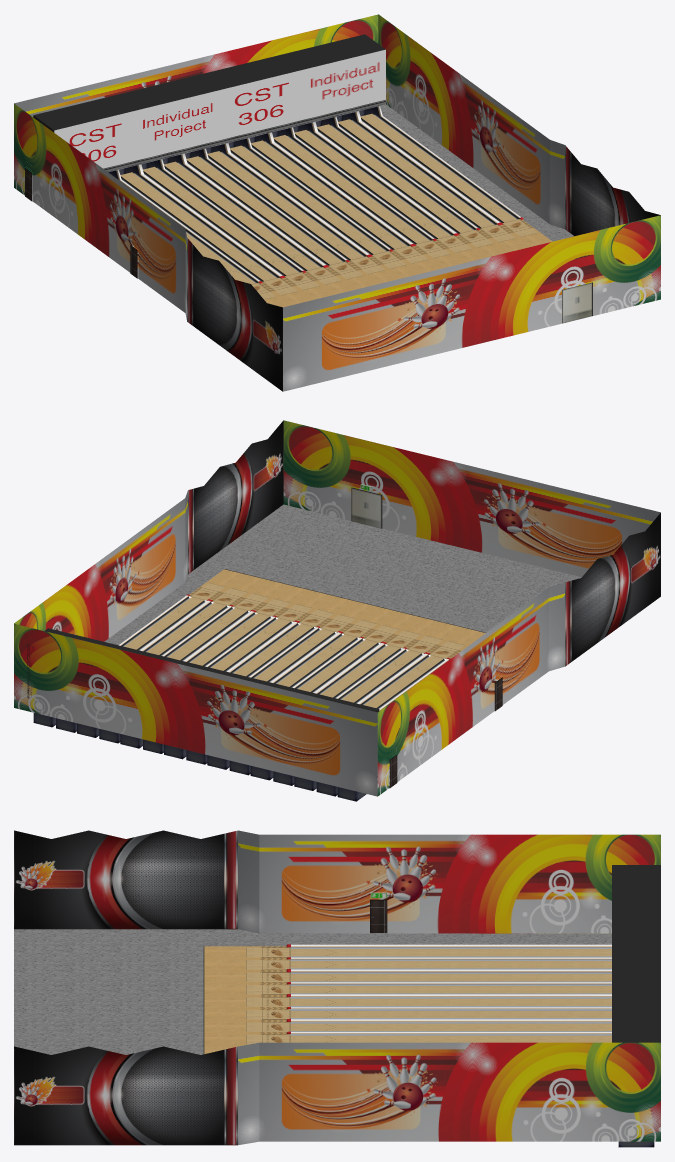
File: Venue01.fbx
The picture shows the model from 3 angles, top to bottom: view 1: azimuth 30°, elevation 25°; view 2: azimuth 150°, elevation 25°; view 3: azimuth 270°, elevation 25°; orthographic projection. The views are drawn at different scales.
Parts seen in each view (by area): view 1: U3DMesh; view 2: U3DMesh; view 3: U3DMesh.
Part boxes in pixels (left/top/right/bottom): U3DMesh: left=14, top=14, right=660, bottom=391; U3DMesh: left=14, top=420, right=660, bottom=801; U3DMesh: left=14, top=830, right=660, bottom=1147.
Size of the model in its own units: 32.28 by 7.97 by 40.86.
